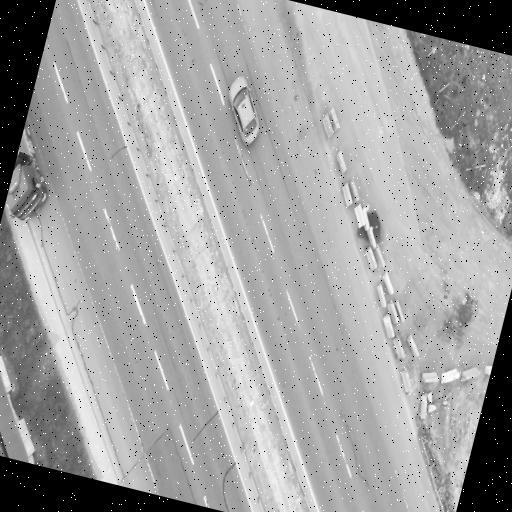car: (229, 77, 260, 146)
truck: (6, 127, 47, 220)
